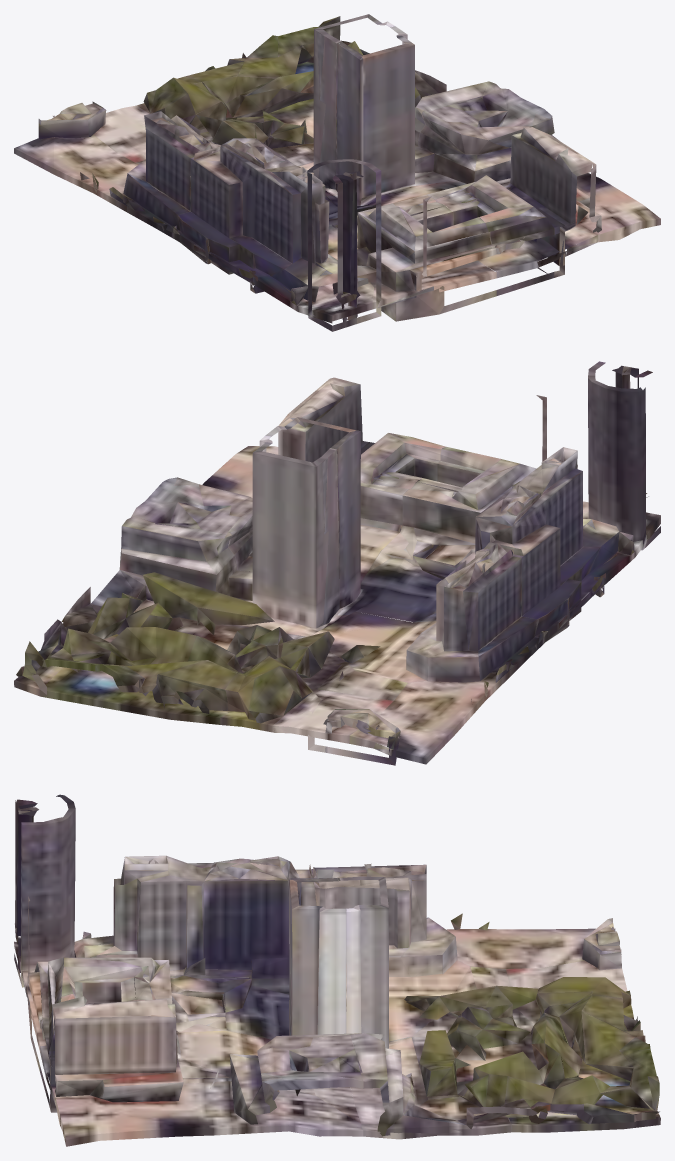
3 renders of one model, top to bottom at view 1: azimuth 30°, elevation 25°; view 2: azimuth 150°, elevation 25°; view 3: azimuth 270°, elevation 25°, orthographic. The views are drawn at different scales.
Visible parts, largest first — view 1: Mesh_0; view 2: Mesh_0; view 3: Mesh_0.
Boxes of the visible parts, <box> form: Mesh_0: <box>14,14,660,331</box>; Mesh_0: <box>14,361,660,765</box>; Mesh_0: <box>14,794,660,1146</box>.
Size of the model in its own units: 266 by 105 by 330.
1 material, 1 textured.
